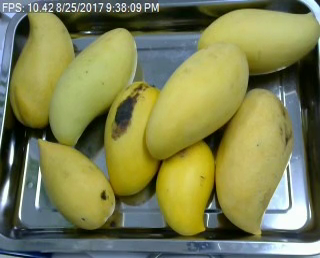Mango: (146, 43, 252, 155), (215, 89, 295, 237), (48, 28, 139, 144), (196, 7, 319, 76), (11, 4, 77, 131), (35, 138, 120, 227), (107, 76, 162, 198), (153, 138, 214, 238)
